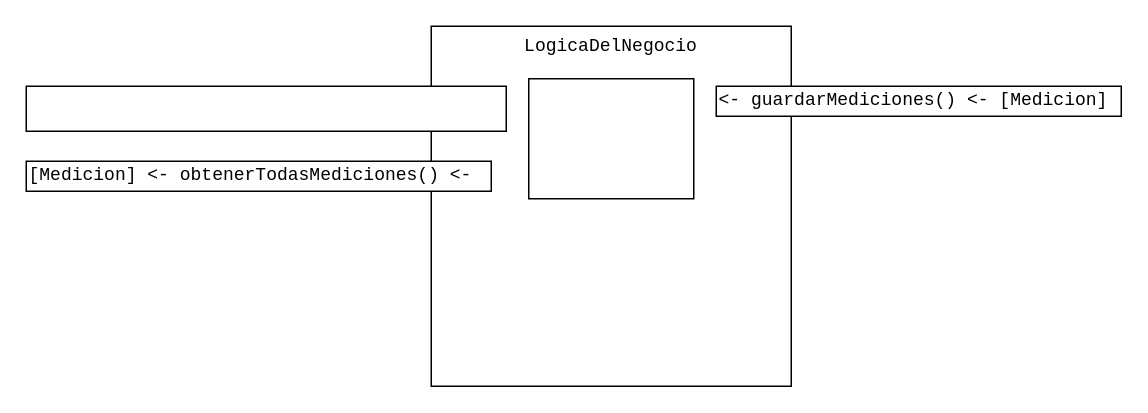
Some shapes in this 1148 by 413 pixel diagram are drawn without their labels. Each missing label, with the centre of its shape:
Cuentos:N -> obtenerUltimasMediciones() <- [Medicion] <-: (x=265, y=108)
Medicion{ CalidadAire:Z Ubicacion:Z Fecha:Z }: (x=610, y=138)
